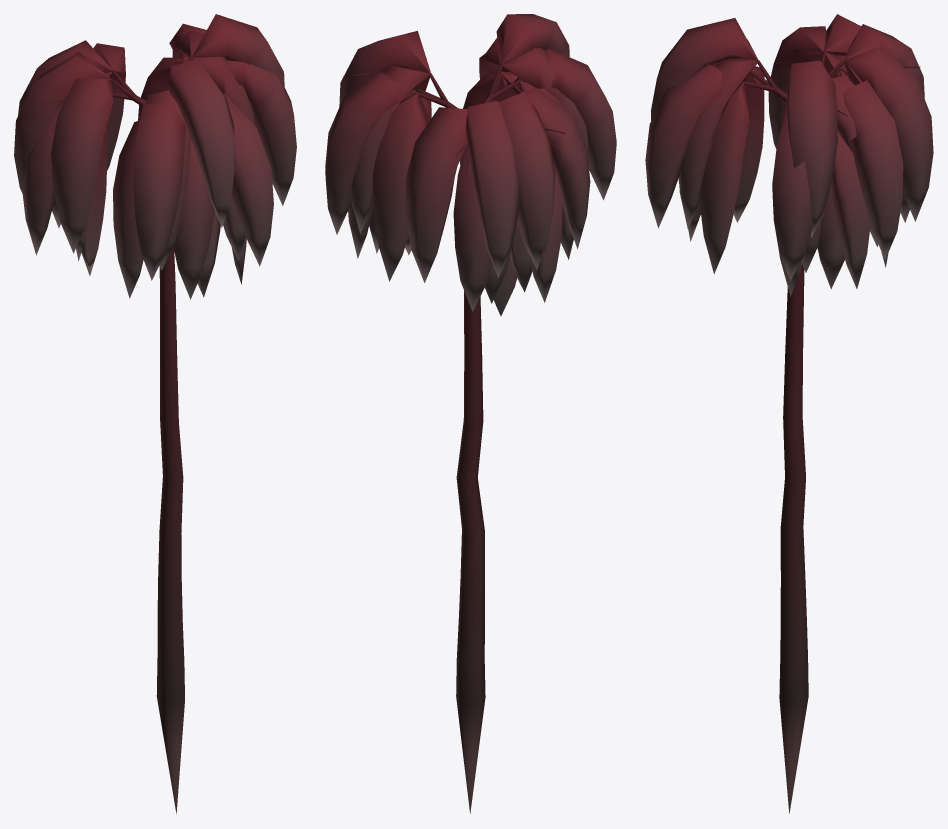
File: plants-trees-palms-red-palm-tree_v6.fbx
The picture shows the model from 3 angles, left to right: view 1: azimuth 30°, elevation 25°; view 2: azimuth 150°, elevation 25°; view 3: azimuth 270°, elevation 25°; orthographic projection.
Visible parts, largest first — view 1: Red Palm Tree_v6; view 2: Red Palm Tree_v6; view 3: Red Palm Tree_v6.
Boxes of the visible parts, <box> form: Red Palm Tree_v6: <box>14,14,296,814</box>; Red Palm Tree_v6: <box>325,14,616,813</box>; Red Palm Tree_v6: <box>645,14,933,813</box>.
Size of the model in its own units: 1.64 by 5 by 1.66.
